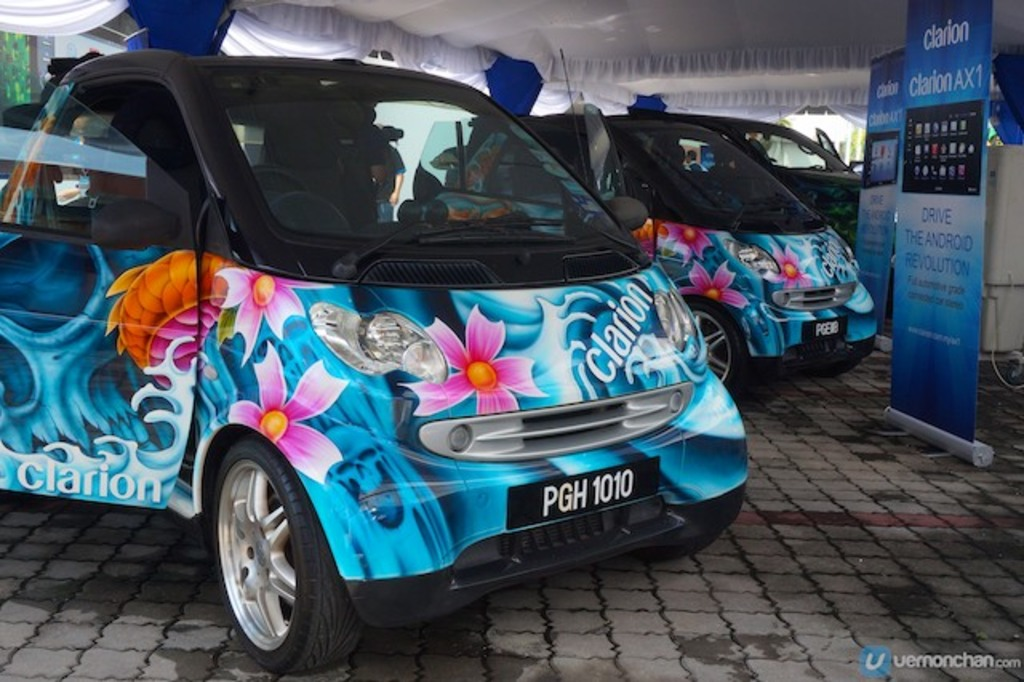Car: (0, 48, 745, 678), (422, 46, 876, 400), (465, 113, 865, 248)
